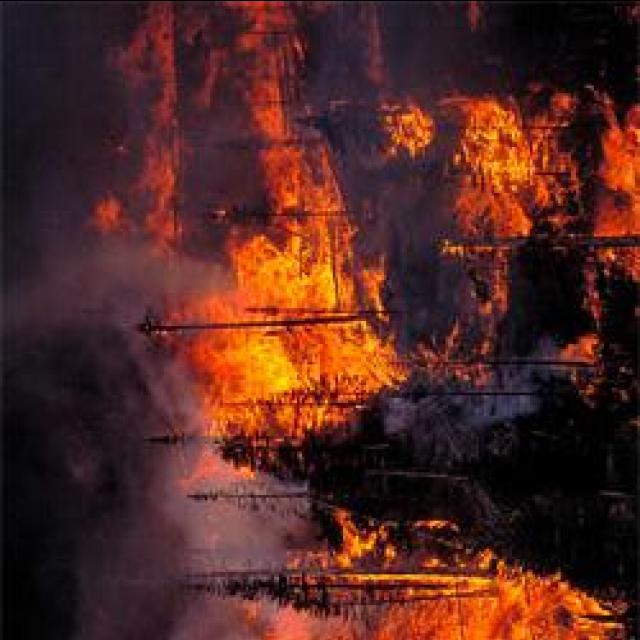fire: (183, 196, 386, 432), (334, 575, 618, 640), (448, 95, 570, 231)
smoke: (168, 477, 306, 562), (33, 238, 178, 310)
